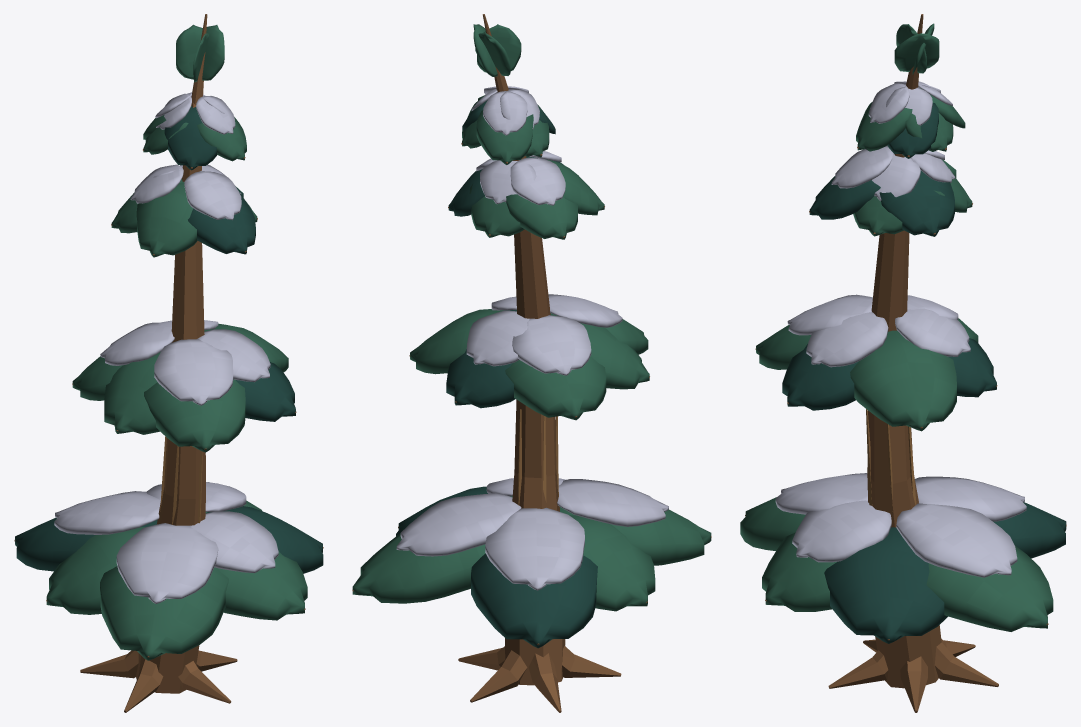
File: pine_sparse_snow.glb
3 renders of one model, left to right at view 1: azimuth 30°, elevation 25°; view 2: azimuth 150°, elevation 25°; view 3: azimuth 270°, elevation 25°, orthographic. The views are drawn at different scales.
Parts seen in each view (by area): view 1: pine_sparse_snow; view 2: pine_sparse_snow; view 3: pine_sparse_snow.
Part boxes in pixels (bbox=[...]): pine_sparse_snow: bbox=[14, 14, 323, 712]; pine_sparse_snow: bbox=[352, 14, 711, 712]; pine_sparse_snow: bbox=[740, 14, 1066, 712].
Bounding box in the file's own units: 2.2 × 5.23 × 2.25.
